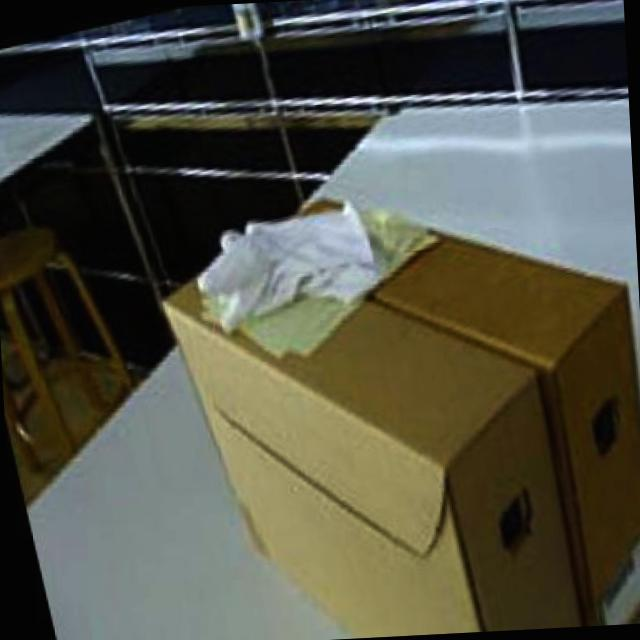box: (135, 192, 604, 640), (283, 117, 640, 640)
